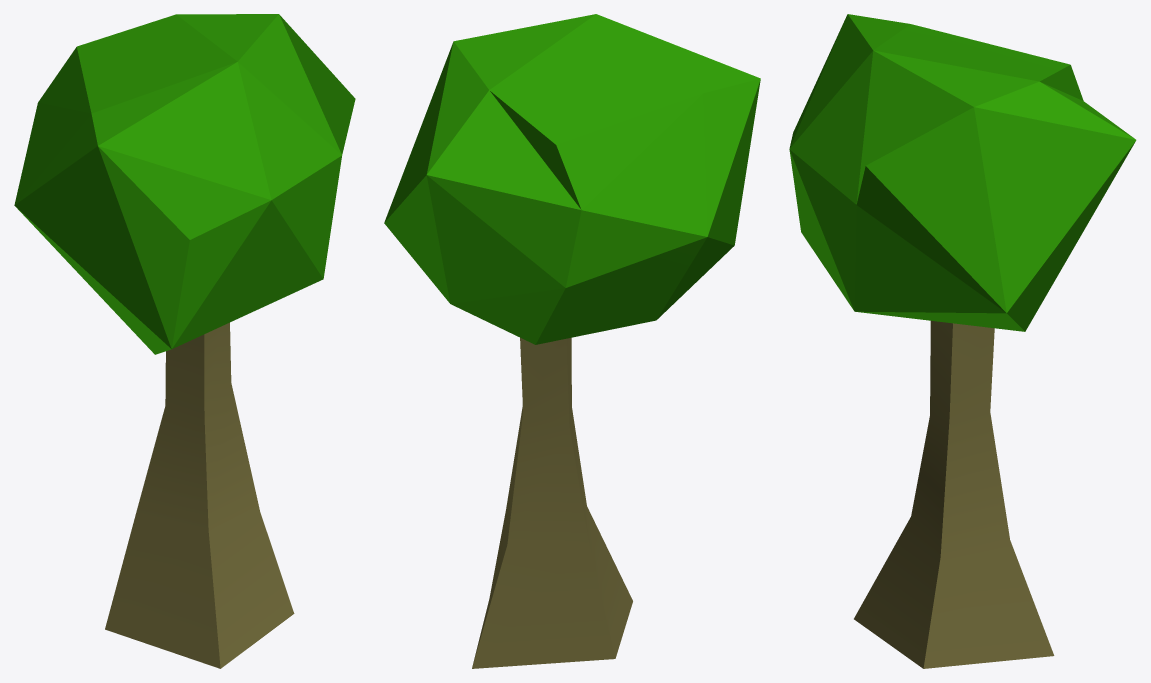
Rendered from A_HappyTree3.fbx.
3 renders of one model, left to right at view 1: azimuth 30°, elevation 25°; view 2: azimuth 150°, elevation 25°; view 3: azimuth 270°, elevation 25°, orthographic. The views are drawn at different scales.
Parts seen in each view (by area): view 1: GeoSphere001; view 2: GeoSphere001; view 3: GeoSphere001.
Part boxes in pixels (left/top/right/bottom): GeoSphere001: left=14, top=14, right=355, bottom=668; GeoSphere001: left=384, top=14, right=760, bottom=668; GeoSphere001: left=789, top=14, right=1136, bottom=668.
Bounding box in the file's own units: 62.96 × 115 × 61.51.
